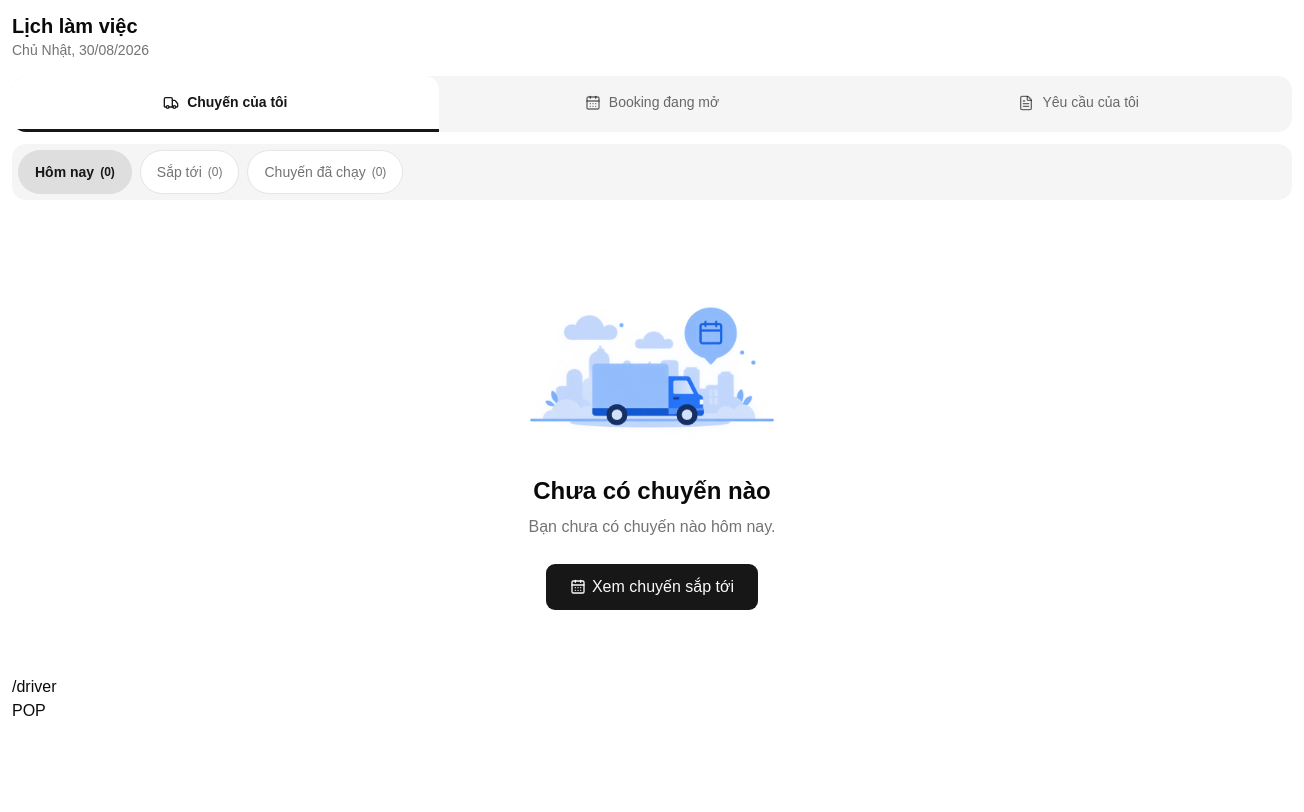
Test case: ★ the work schedule — the tabs themselves › selecting a tab rewrites the URL in place, and today is the bare /driver
Expected: the text "Bạn chưa có chuyến nào hôm nay." is shown, [528,515,776,539]
Step 1. Click the tab "Sắp tới (0)" → (190, 172), box [140,150,240,194]
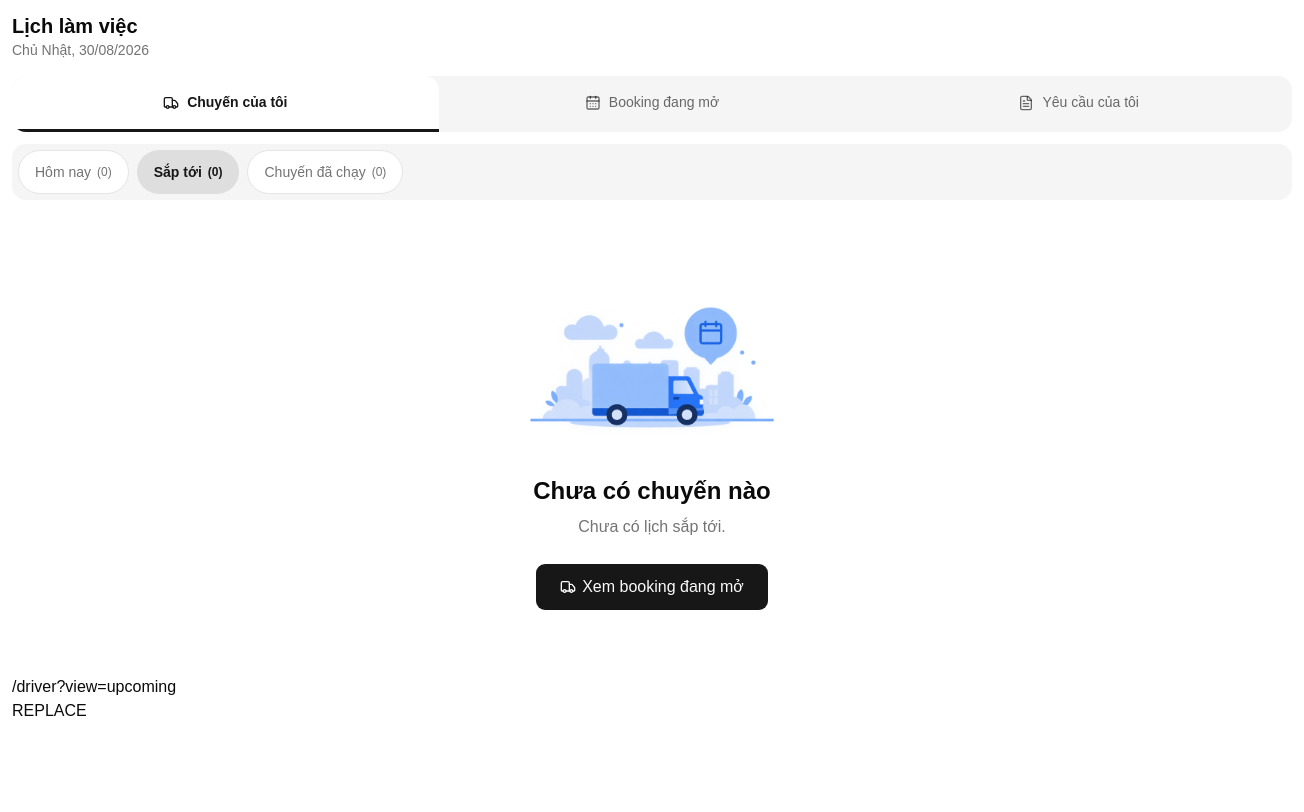
Expected: the text "Chưa có lịch sắp tới." is shown, [578,515,726,539]
Expected: the text with test id "location" reads "/driver?view=upcoming", [12,678,176,695]
Expected: the text with test id "navigation" reads "REPLACE", [12,702,87,719]
Step 2. Click the tab "Hôm nay (0)" → (73, 172), box [18,150,129,194]
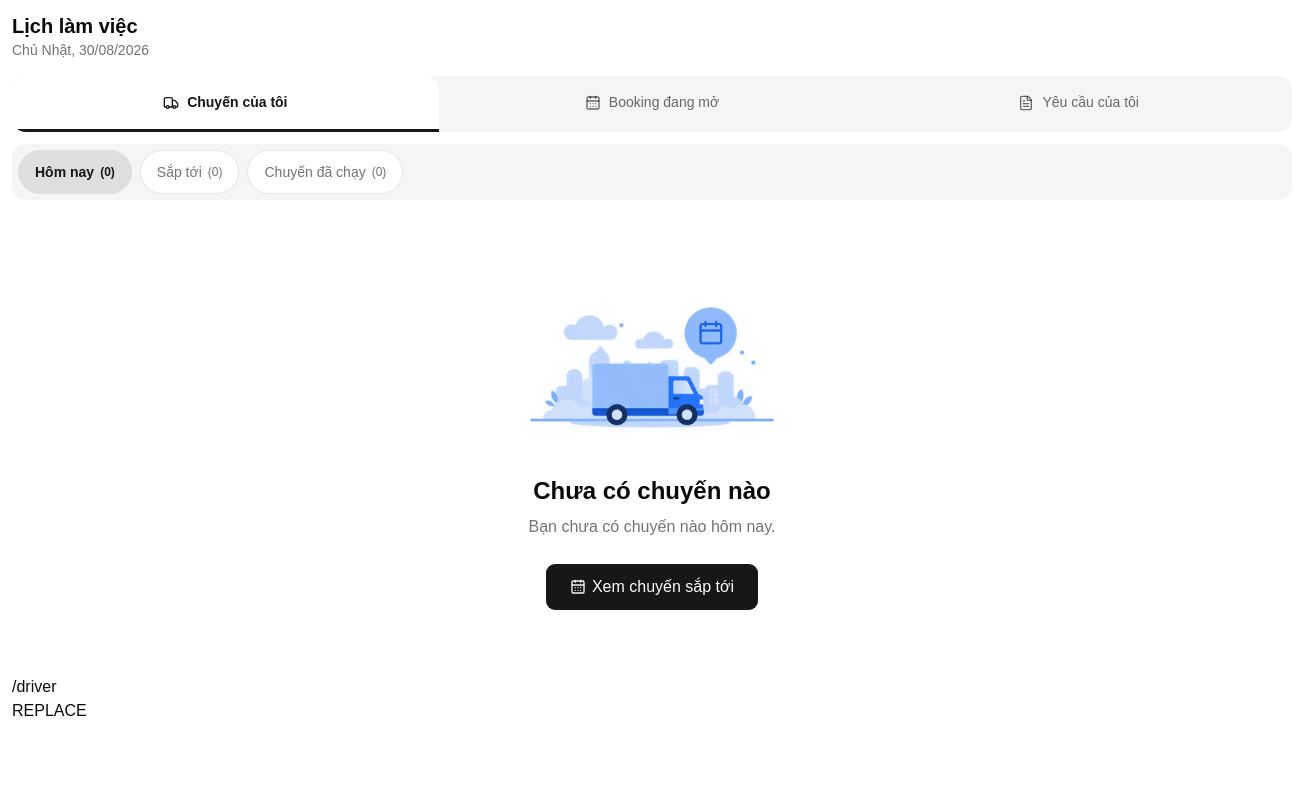
Expected: the text with test id "location" reads "/driver", [12,678,56,695]
Expected: the text "Bạn chưa có chuyến nào hôm nay." is shown, [528,515,776,539]
